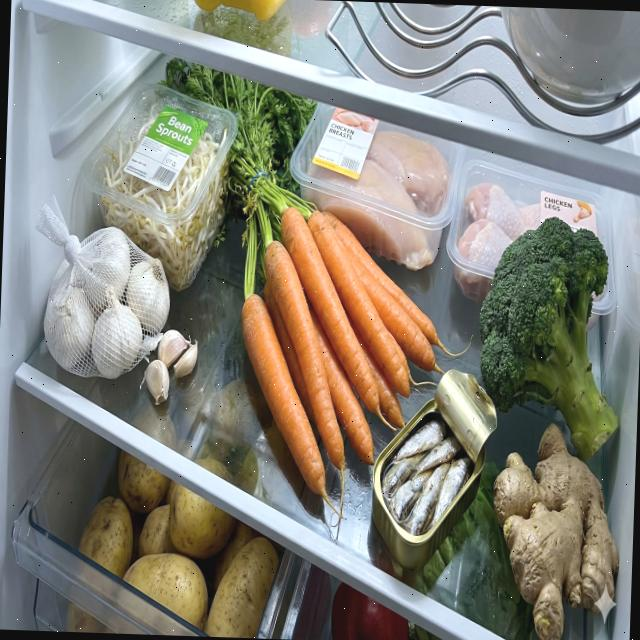bean_sprouts: (98, 100, 229, 288)
brocolli: (474, 214, 627, 464)
carrot: (235, 204, 443, 499)
chicken: (302, 104, 453, 272), (452, 182, 598, 311)
fish: (380, 415, 472, 539)
garlic: (40, 222, 202, 408)
ginger: (488, 420, 623, 640)
potato: (75, 447, 283, 638)
